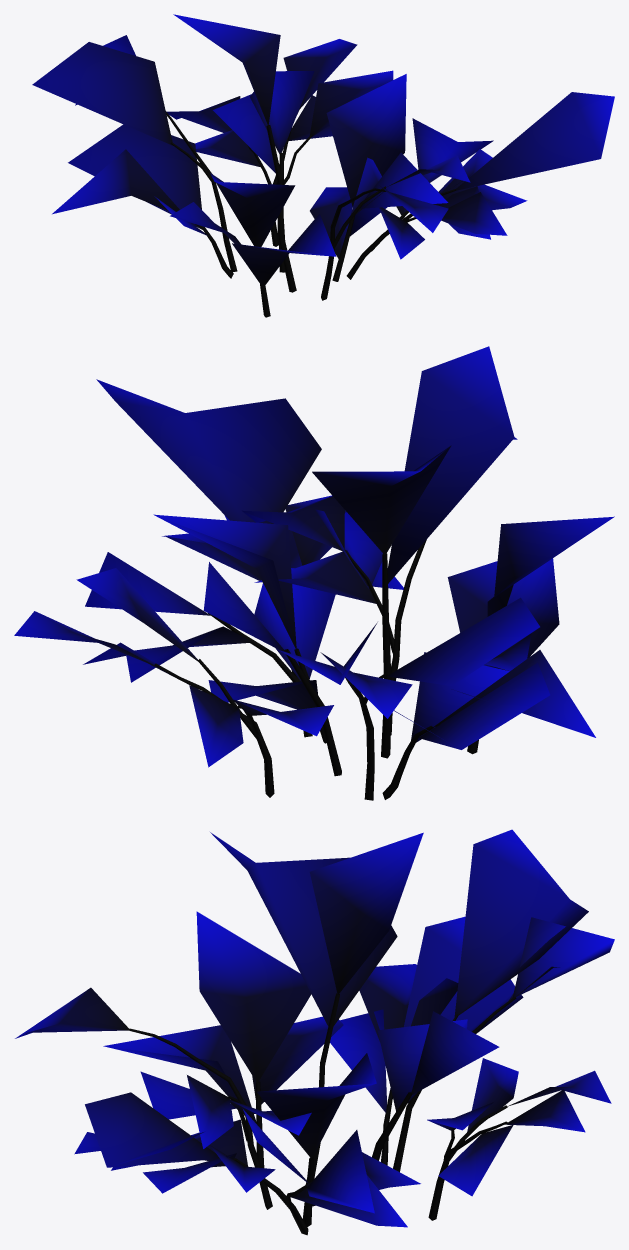
File: SM_EuropeanBeech_05.fbx
3 renders of one model, top to bottom at view 1: azimuth 30°, elevation 25°; view 2: azimuth 150°, elevation 25°; view 3: azimuth 270°, elevation 25°, orthographic. The views are drawn at different scales.
Parts seen in each view (by area): view 1: SM_EuropeanBeech_05_LOD0; view 2: SM_EuropeanBeech_05_LOD0; view 3: SM_EuropeanBeech_05_LOD0.
Boxes of the visible parts, x1=… form: SM_EuropeanBeech_05_LOD0: x1=32, y1=14, x2=614, y2=317; SM_EuropeanBeech_05_LOD0: x1=14, y1=346, x2=614, y2=800; SM_EuropeanBeech_05_LOD0: x1=15, y1=829, x2=614, y2=1235.
Bounding box in the file's own units: 86.78 × 78.52 × 50.03.
